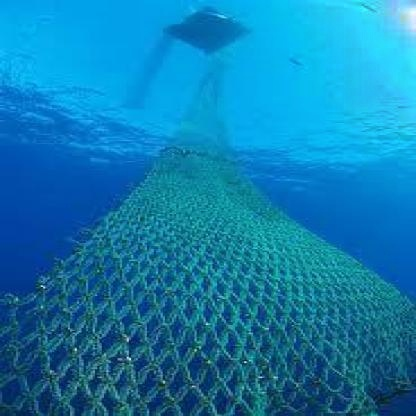net: (20, 108, 405, 416)
